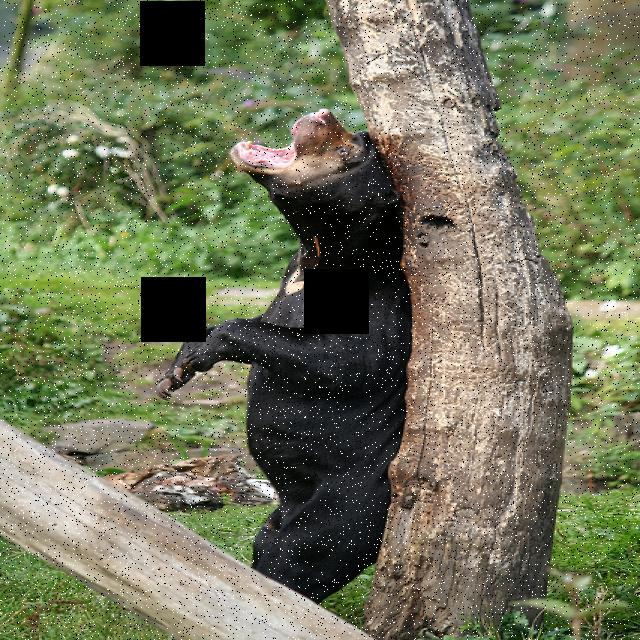Bear: (158, 93, 392, 604)
